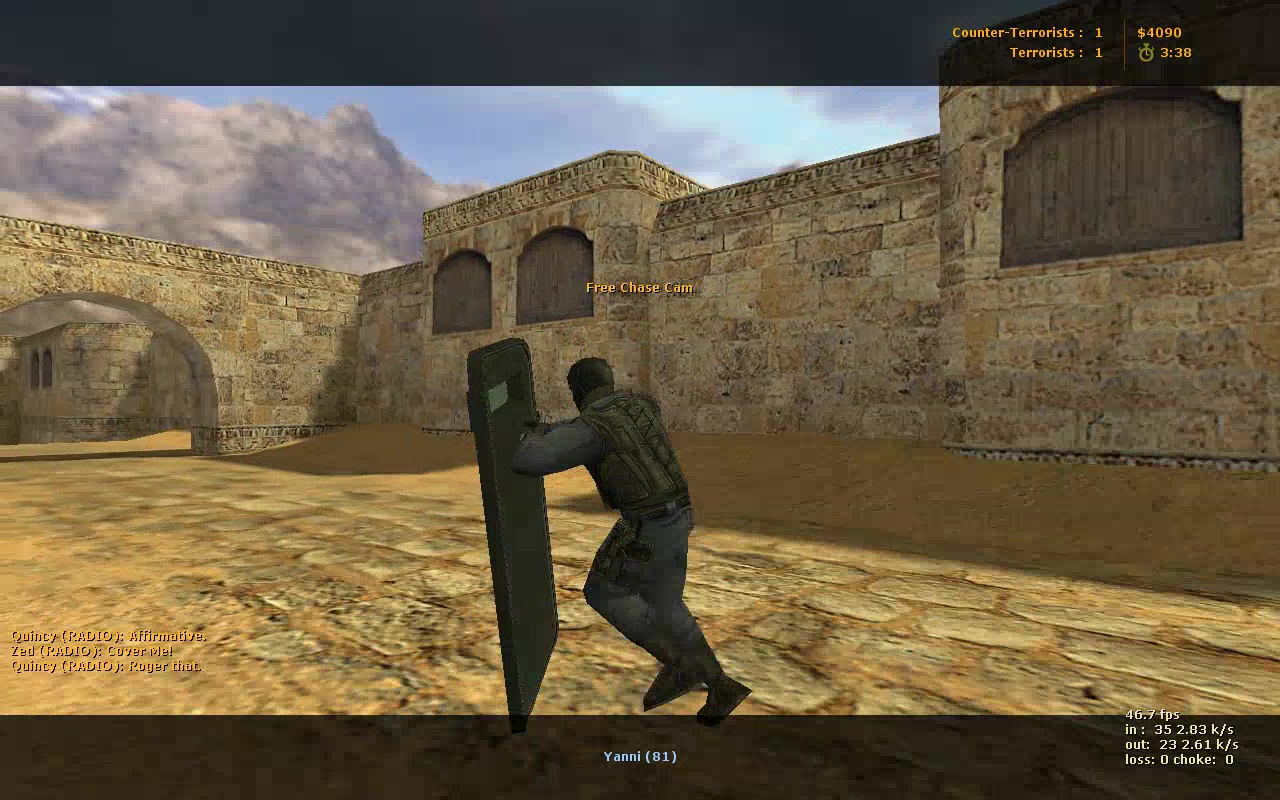ct: (466, 336, 751, 735)
